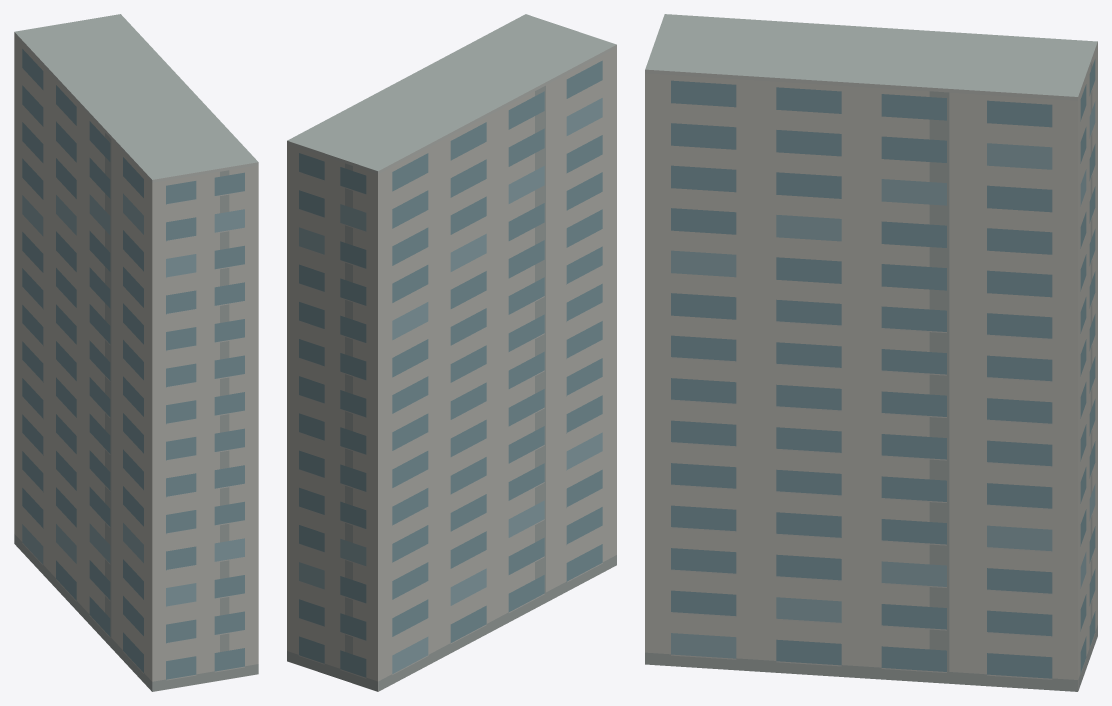
The model's file is residential-a618bfe3-1f2b-4daa-899c-a7be359e7be1.glb.
3 renders of one model, left to right at view 1: azimuth 30°, elevation 25°; view 2: azimuth 150°, elevation 25°; view 3: azimuth 270°, elevation 25°, orthographic. The views are drawn at different scales.
Visible parts, largest first — view 1: residential-a618bfe3-1f2b-4daa-899c-a7be359e7be1.tmp; view 2: residential-a618bfe3-1f2b-4daa-899c-a7be359e7be1.tmp; view 3: residential-a618bfe3-1f2b-4daa-899c-a7be359e7be1.tmp.
Part boxes in pixels (x1,y1,x2,y2): residential-a618bfe3-1f2b-4daa-899c-a7be359e7be1.tmp: (14,14,258,691); residential-a618bfe3-1f2b-4daa-899c-a7be359e7be1.tmp: (287,14,616,691); residential-a618bfe3-1f2b-4daa-899c-a7be359e7be1.tmp: (645,14,1097,691).
Size of the model in its own units: 11.98 by 40 by 27.6.
